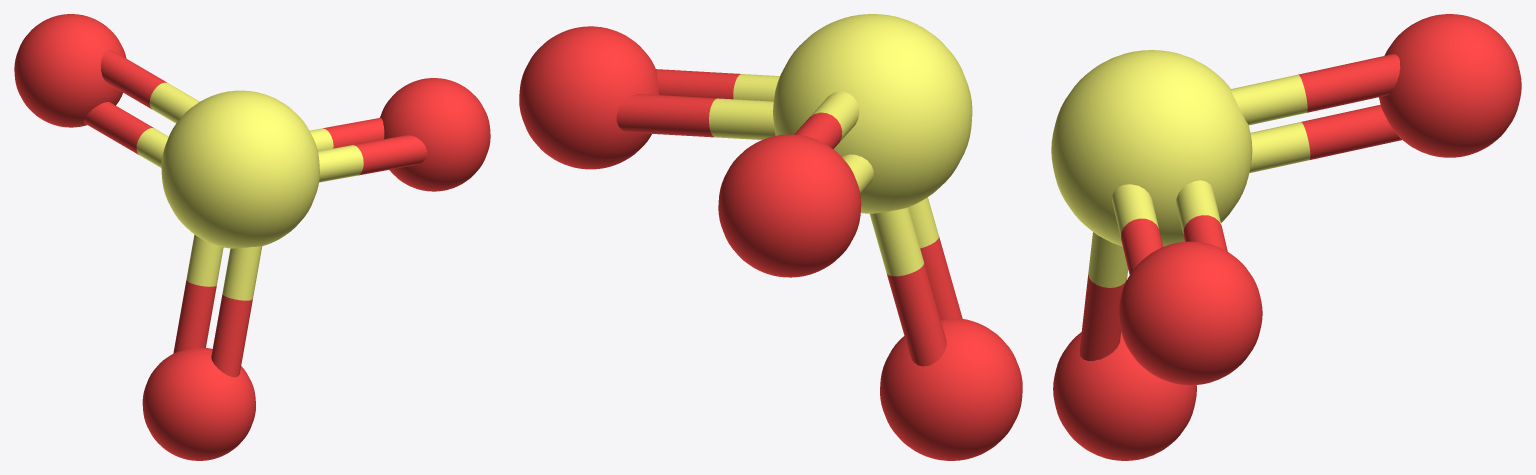
Rendered from sulfur-trioxide.fbx.
The picture shows the model from 3 angles, left to right: view 1: azimuth 30°, elevation 25°; view 2: azimuth 150°, elevation 25°; view 3: azimuth 270°, elevation 25°; orthographic projection. The views are drawn at different scales.
Visible parts, largest first — view 1: Sulfur, O2, O3, O1, S-O2 bond, S-O3 bond, S-O1 bond; view 2: Sulfur, O3, O2, O1, S-O1 bond, S-O2 bond, S-O3 bond; view 3: Sulfur, O1, O3, S-O3 bond, O2, S-O1 bond, S-O2 bond.
Part boxes in pixels (left/top/right/bottom): Sulfur: left=161, top=90, right=319, bottom=248; O2: left=142, top=347, right=255, bottom=460; O3: left=14, top=14, right=126, bottom=127; O1: left=380, top=78, right=490, bottom=191; S-O2 bond: left=173, top=234, right=262, bottom=377; S-O3 bond: left=83, top=50, right=199, bottom=167; S-O1 bond: left=309, top=117, right=426, bottom=182; Sulfur: left=773, top=14, right=972, bottom=213; O3: left=718, top=134, right=861, bottom=277; O2: left=880, top=318, right=1022, bottom=460; O1: left=519, top=26, right=659, bottom=169; S-O1 bond: left=616, top=69, right=779, bottom=139; S-O2 bond: left=869, top=197, right=962, bottom=366; S-O3 bond: left=794, top=91, right=873, bottom=193; Sulfur: left=1051, top=50, right=1252, bottom=246; O1: left=1118, top=241, right=1262, bottom=385; O3: left=1379, top=14, right=1521, bottom=157; S-O3 bond: left=1231, top=54, right=1401, bottom=172; O2: left=1053, top=332, right=1196, bottom=460; S-O1 bond: left=1112, top=180, right=1227, bottom=274; S-O2 bond: left=1079, top=232, right=1128, bottom=360.
Size of the model in its own units: 266 by 243 by 239.
